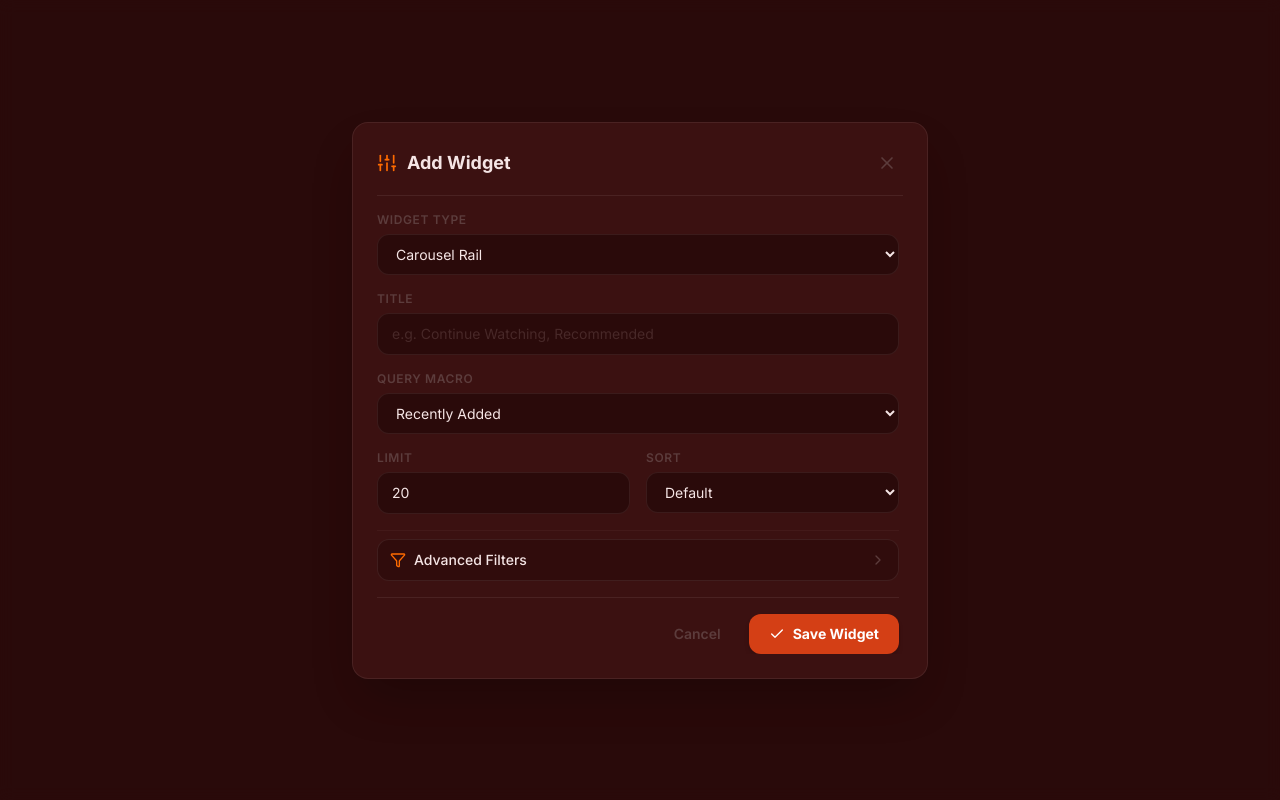
WidgetConfigModal Component › Advanced Filters Configuration › expanding section reveals Exclude Private Libraries, Exclude Libraries, Exclude Genres, and Date Added controls
Expected: the field labelled "Always exclude private libraries" is not shown
Expected: the text "Exclude Libraries" is not shown
Click the button "Advanced Filters". click: (470, 559)
box: [377,538,899,580]
(page scrolled)
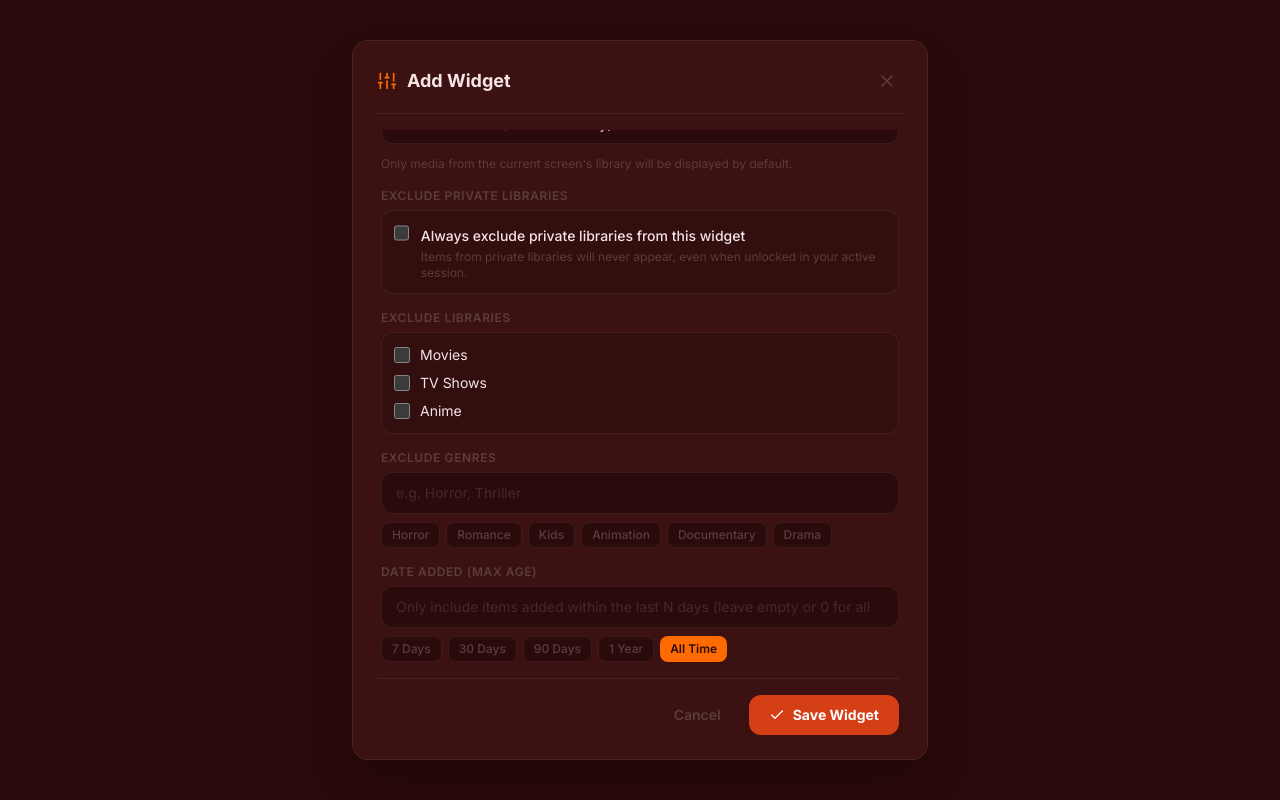
Now the checkbox labelled "Always exclude private libraries from this widget" is shown, box [394,225,409,241]
Now the text "Exclude Libraries" is shown, box [381,310,511,325]
Now the text "Movies" is shown, box [420,345,468,365]
